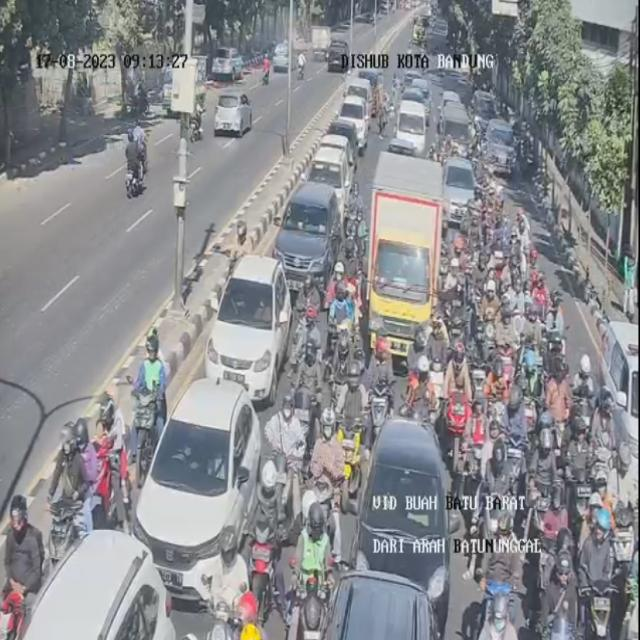cars: (133, 378, 260, 601), (351, 418, 450, 636), (22, 530, 175, 640), (368, 151, 443, 357), (207, 255, 291, 403), (322, 570, 439, 640), (275, 182, 342, 290), (307, 134, 356, 220), (339, 77, 370, 154), (390, 95, 428, 155), (444, 155, 476, 222), (483, 116, 517, 175), (328, 116, 360, 170)
motorcycle: (47, 421, 96, 563), (126, 327, 166, 487), (480, 514, 523, 639), (90, 391, 129, 528), (579, 508, 618, 640), (2, 495, 43, 608), (611, 500, 640, 640), (542, 551, 579, 639), (466, 330, 495, 420), (573, 353, 597, 429), (504, 384, 528, 452), (76, 420, 89, 446), (482, 358, 483, 359)
